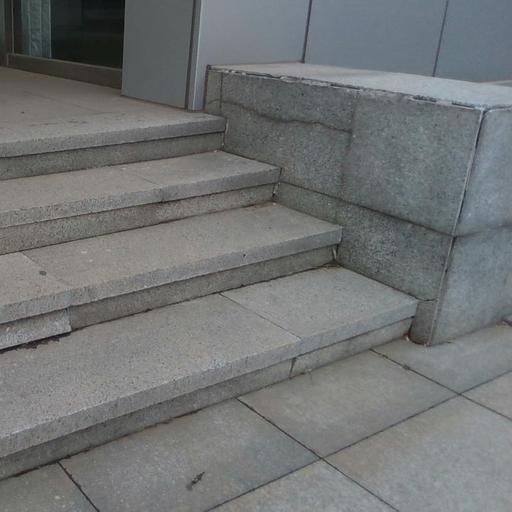stairs: (0, 110, 415, 477)
